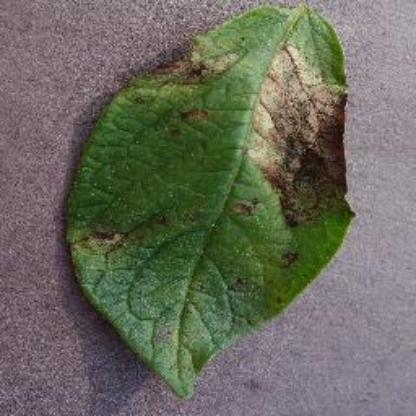Late-Blight: (57, 7, 365, 399)
